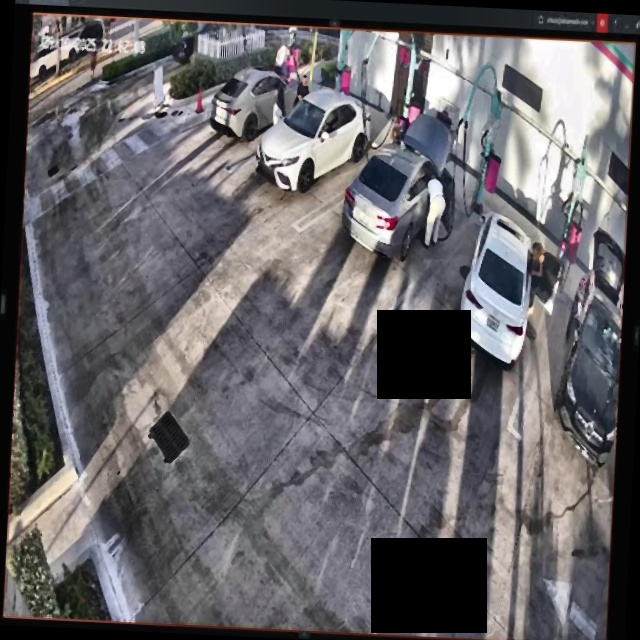Car: (338, 115, 458, 265), (457, 207, 563, 369), (255, 89, 372, 192), (204, 61, 310, 140)
